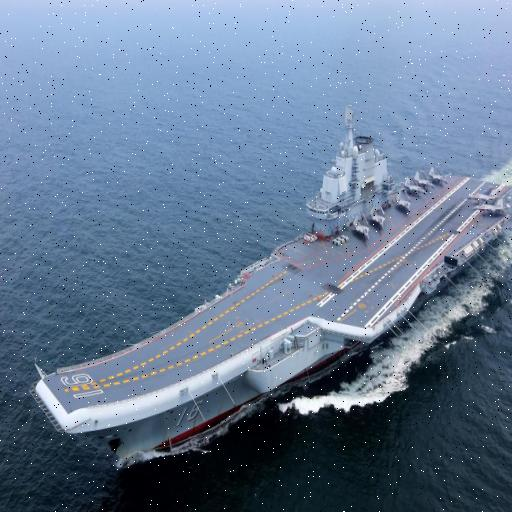Portanaves: (32, 98, 512, 477)
